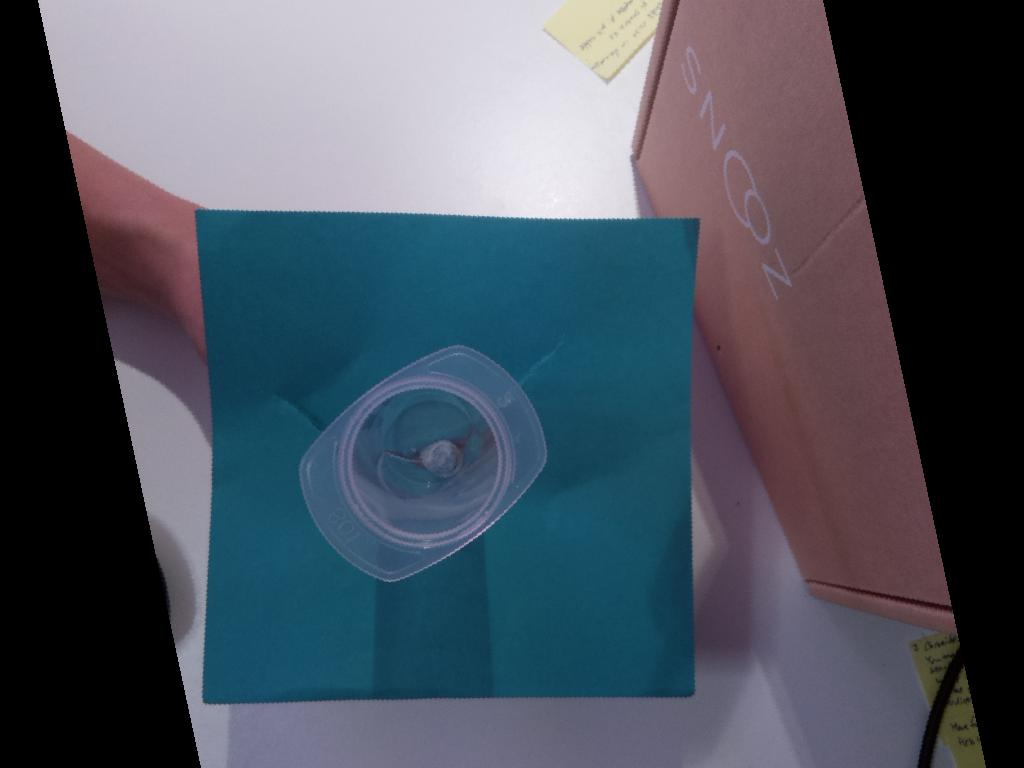clean: (297, 340, 551, 590)
